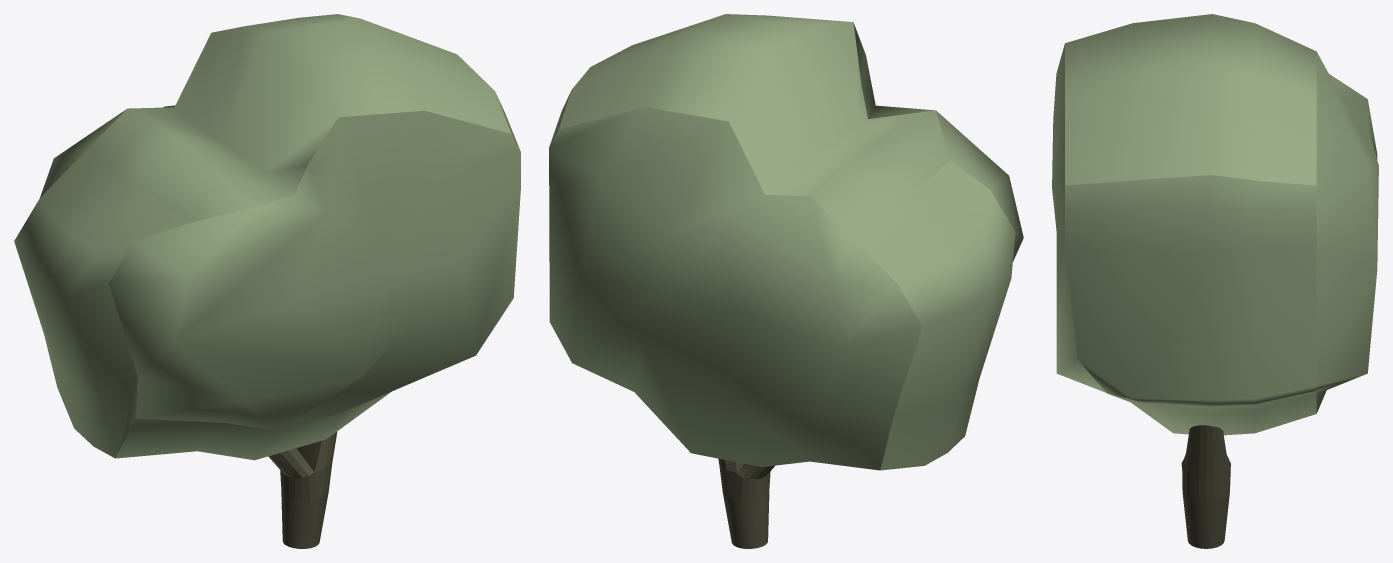
Rendered from Tree2Dark.fbx.
The picture shows the model from 3 angles, left to right: view 1: azimuth 30°, elevation 25°; view 2: azimuth 150°, elevation 25°; view 3: azimuth 270°, elevation 25°; orthographic projection.
Parts seen in each view (by area): view 1: pasted__pCube5, pasted__pCylinder4; view 2: pasted__pCube5, pasted__pCylinder4; view 3: pasted__pCube5, pasted__pCylinder4.
Part boxes in pixels (<box>): pasted__pCube5: <box>14,14,520,460</box>; pasted__pCylinder4: <box>268,431,337,548</box>; pasted__pCube5: <box>549,14,1023,470</box>; pasted__pCylinder4: <box>718,458,774,548</box>; pasted__pCube5: <box>1052,14,1378,435</box>; pasted__pCylinder4: <box>1181,425,1230,548</box>.
Bounding box in the file's own units: 3.11 × 3.63 × 2.11.
